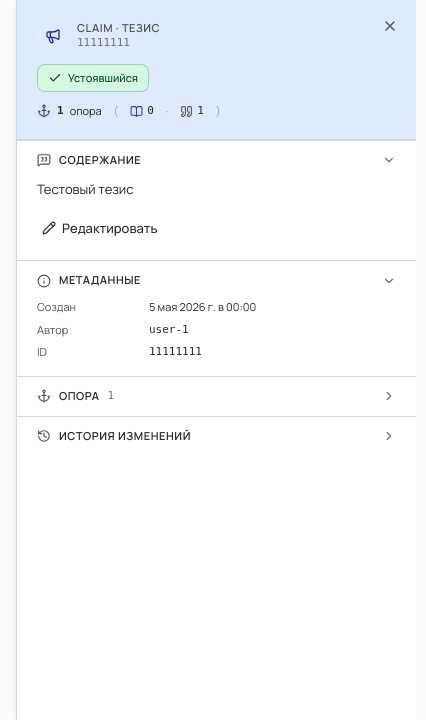
NodeDetailsPanel › секция Опора › цитата без authorityId не показывает блок автора
Click the button "Опора 1" at (79, 396), box [17, 377, 416, 416]
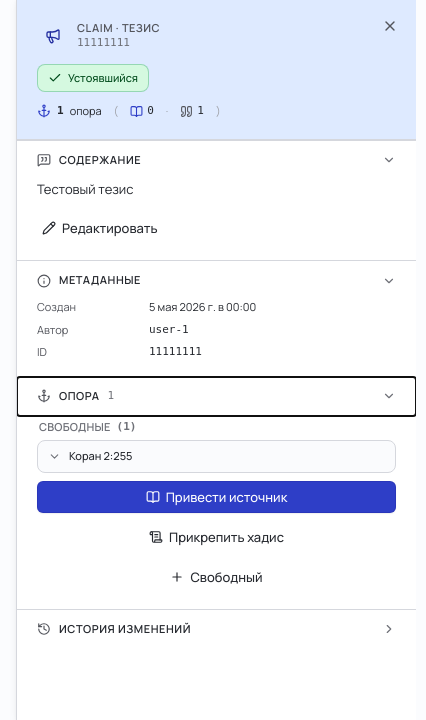
Now the text "Коран 2:255" is shown, box [69, 449, 132, 464]
